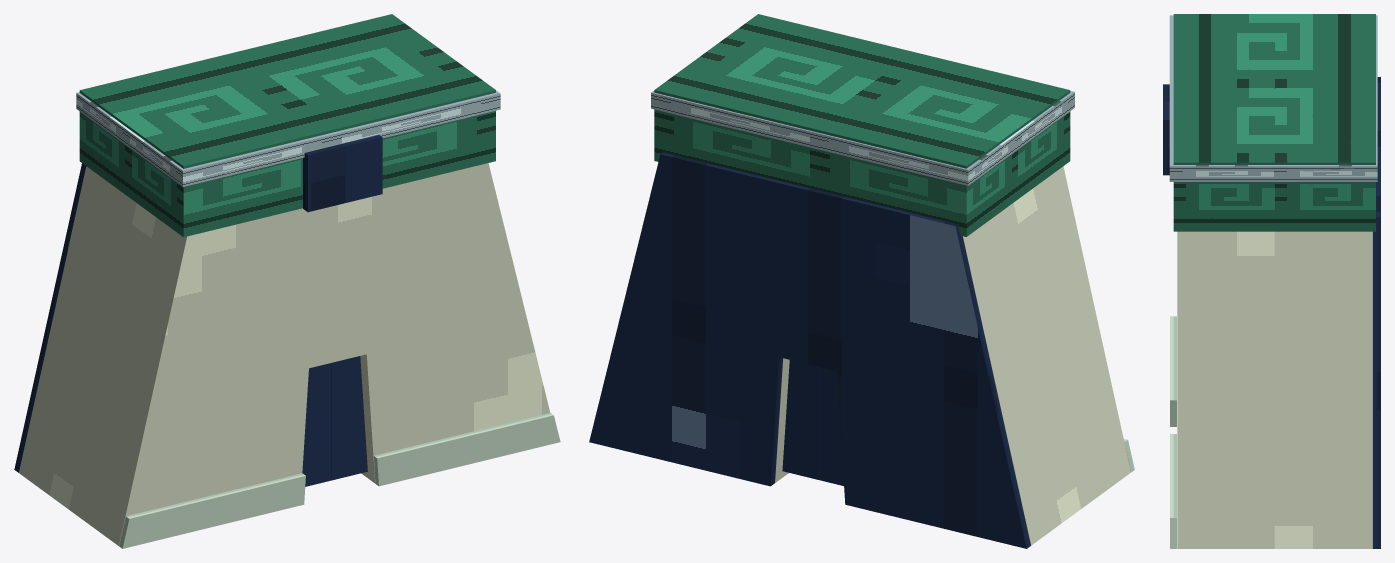
Rendered from jindan_taiyin_leggings.obj.
3 renders of one model, left to right at view 1: azimuth 30°, elevation 25°; view 2: azimuth 150°, elevation 25°; view 3: azimuth 270°, elevation 25°, orthographic. The views are drawn at different scales.
Visible parts, largest first — view 1: whole_split_robe, moon_obi, moon_obi_border, moon_hem_-1, moon_hem_1, moon_obi_seal, moon_pants_1, moon_pants_-1, moon_robe_reverse; view 2: moon_robe_reverse, moon_obi, whole_split_robe, moon_obi_border, moon_pants_1, moon_pants_-1; view 3: whole_split_robe, moon_obi, moon_obi_border, moon_robe_reverse, moon_hem_1, moon_hem_-1, moon_obi_seal.
Boxes of the visible parts, left/top/right/bottom form: whole_split_robe: left=19, top=163, right=550, bottom=545; moon_obi: left=79, top=14, right=495, bottom=237; moon_obi_border: left=76, top=90, right=500, bottom=186; moon_hem_-1: left=119, top=473, right=305, bottom=548; moon_hem_1: left=373, top=413, right=560, bottom=486; moon_obi_seal: left=303, top=135, right=382, bottom=212; moon_pants_1: left=331, top=356, right=367, bottom=480; moon_pants_-1: left=302, top=363, right=330, bottom=486; moon_robe_reverse: left=14, top=163, right=86, bottom=472; moon_robe_reverse: left=589, top=152, right=1030, bottom=548; moon_obi: left=654, top=14, right=1070, bottom=236; whole_split_robe: left=775, top=166, right=1130, bottom=545; moon_obi_border: left=651, top=90, right=1074, bottom=185; moon_pants_1: left=782, top=360, right=819, bottom=479; moon_pants_-1: left=819, top=367, right=843, bottom=485; whole_split_robe: left=1177, top=231, right=1372, bottom=548; moon_obi: left=1173, top=14, right=1375, bottom=231; moon_obi_border: left=1169, top=15, right=1377, bottom=181; moon_robe_reverse: left=1372, top=77, right=1380, bottom=548; moon_hem_1: left=1170, top=434, right=1176, bottom=548; moon_hem_-1: left=1170, top=316, right=1176, bottom=426; moon_obi_seal: left=1163, top=84, right=1169, bottom=175.
Size of the model in its own units: 0.8062 by 0.6437 by 0.3566.
